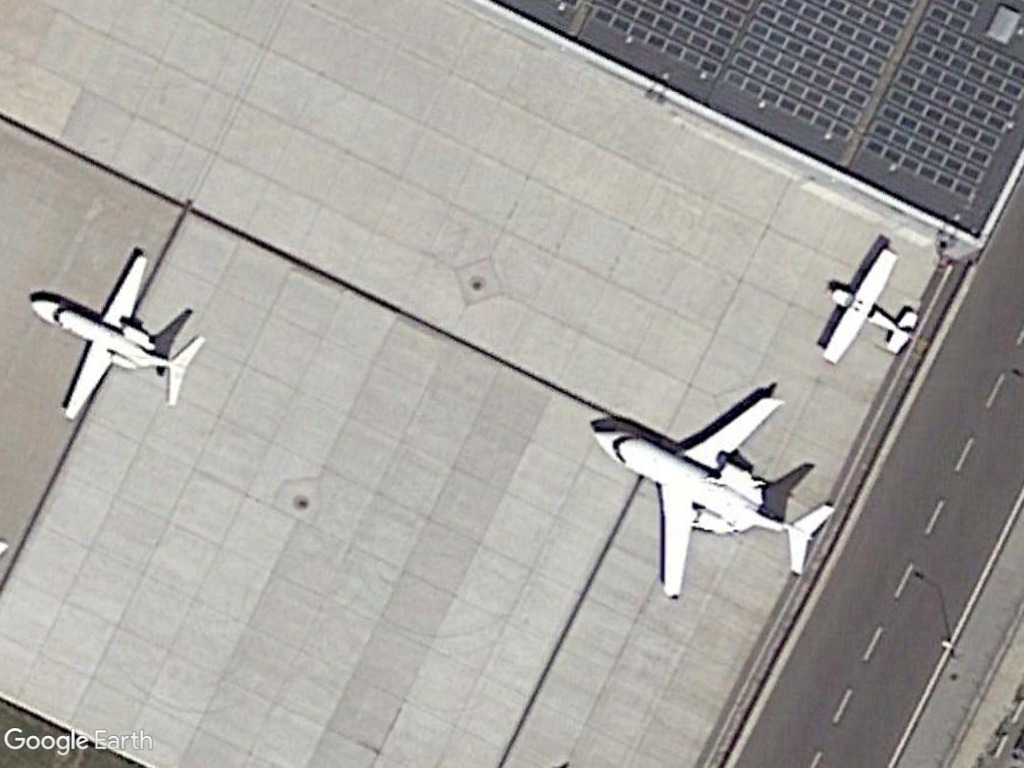chartered: (587, 392, 839, 608), (28, 249, 210, 427)
trainer: (814, 237, 925, 366)
